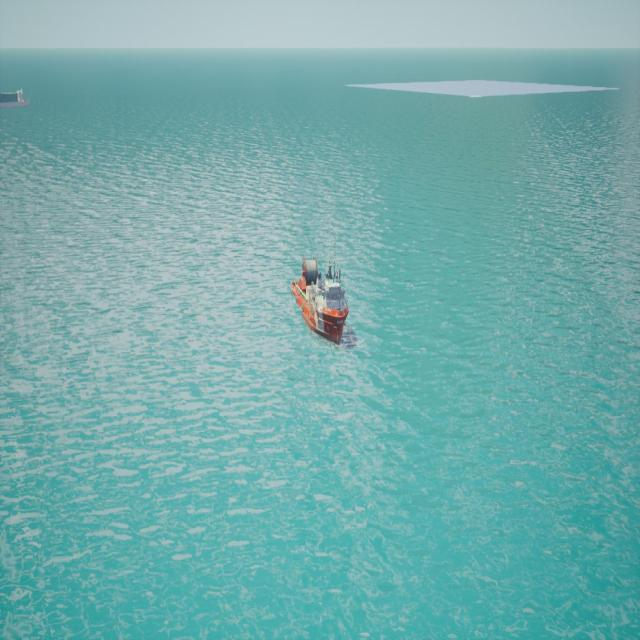tug boat: (292, 260, 349, 346)
